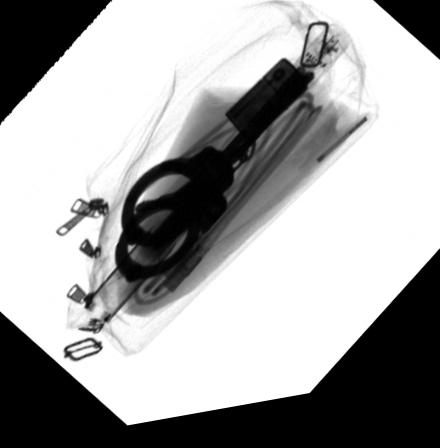Baton: (81, 31, 349, 329)
HandCuffs: (112, 147, 259, 288)
Lighter: (225, 68, 307, 151)
